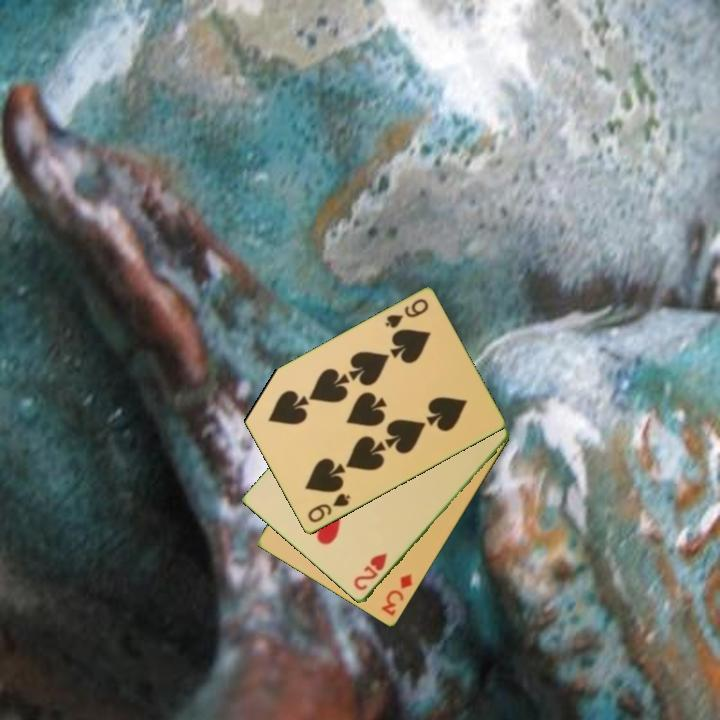2h: (350, 549, 390, 594)
3d: (378, 570, 415, 619)
9s: (381, 295, 432, 332), (304, 490, 353, 526)
